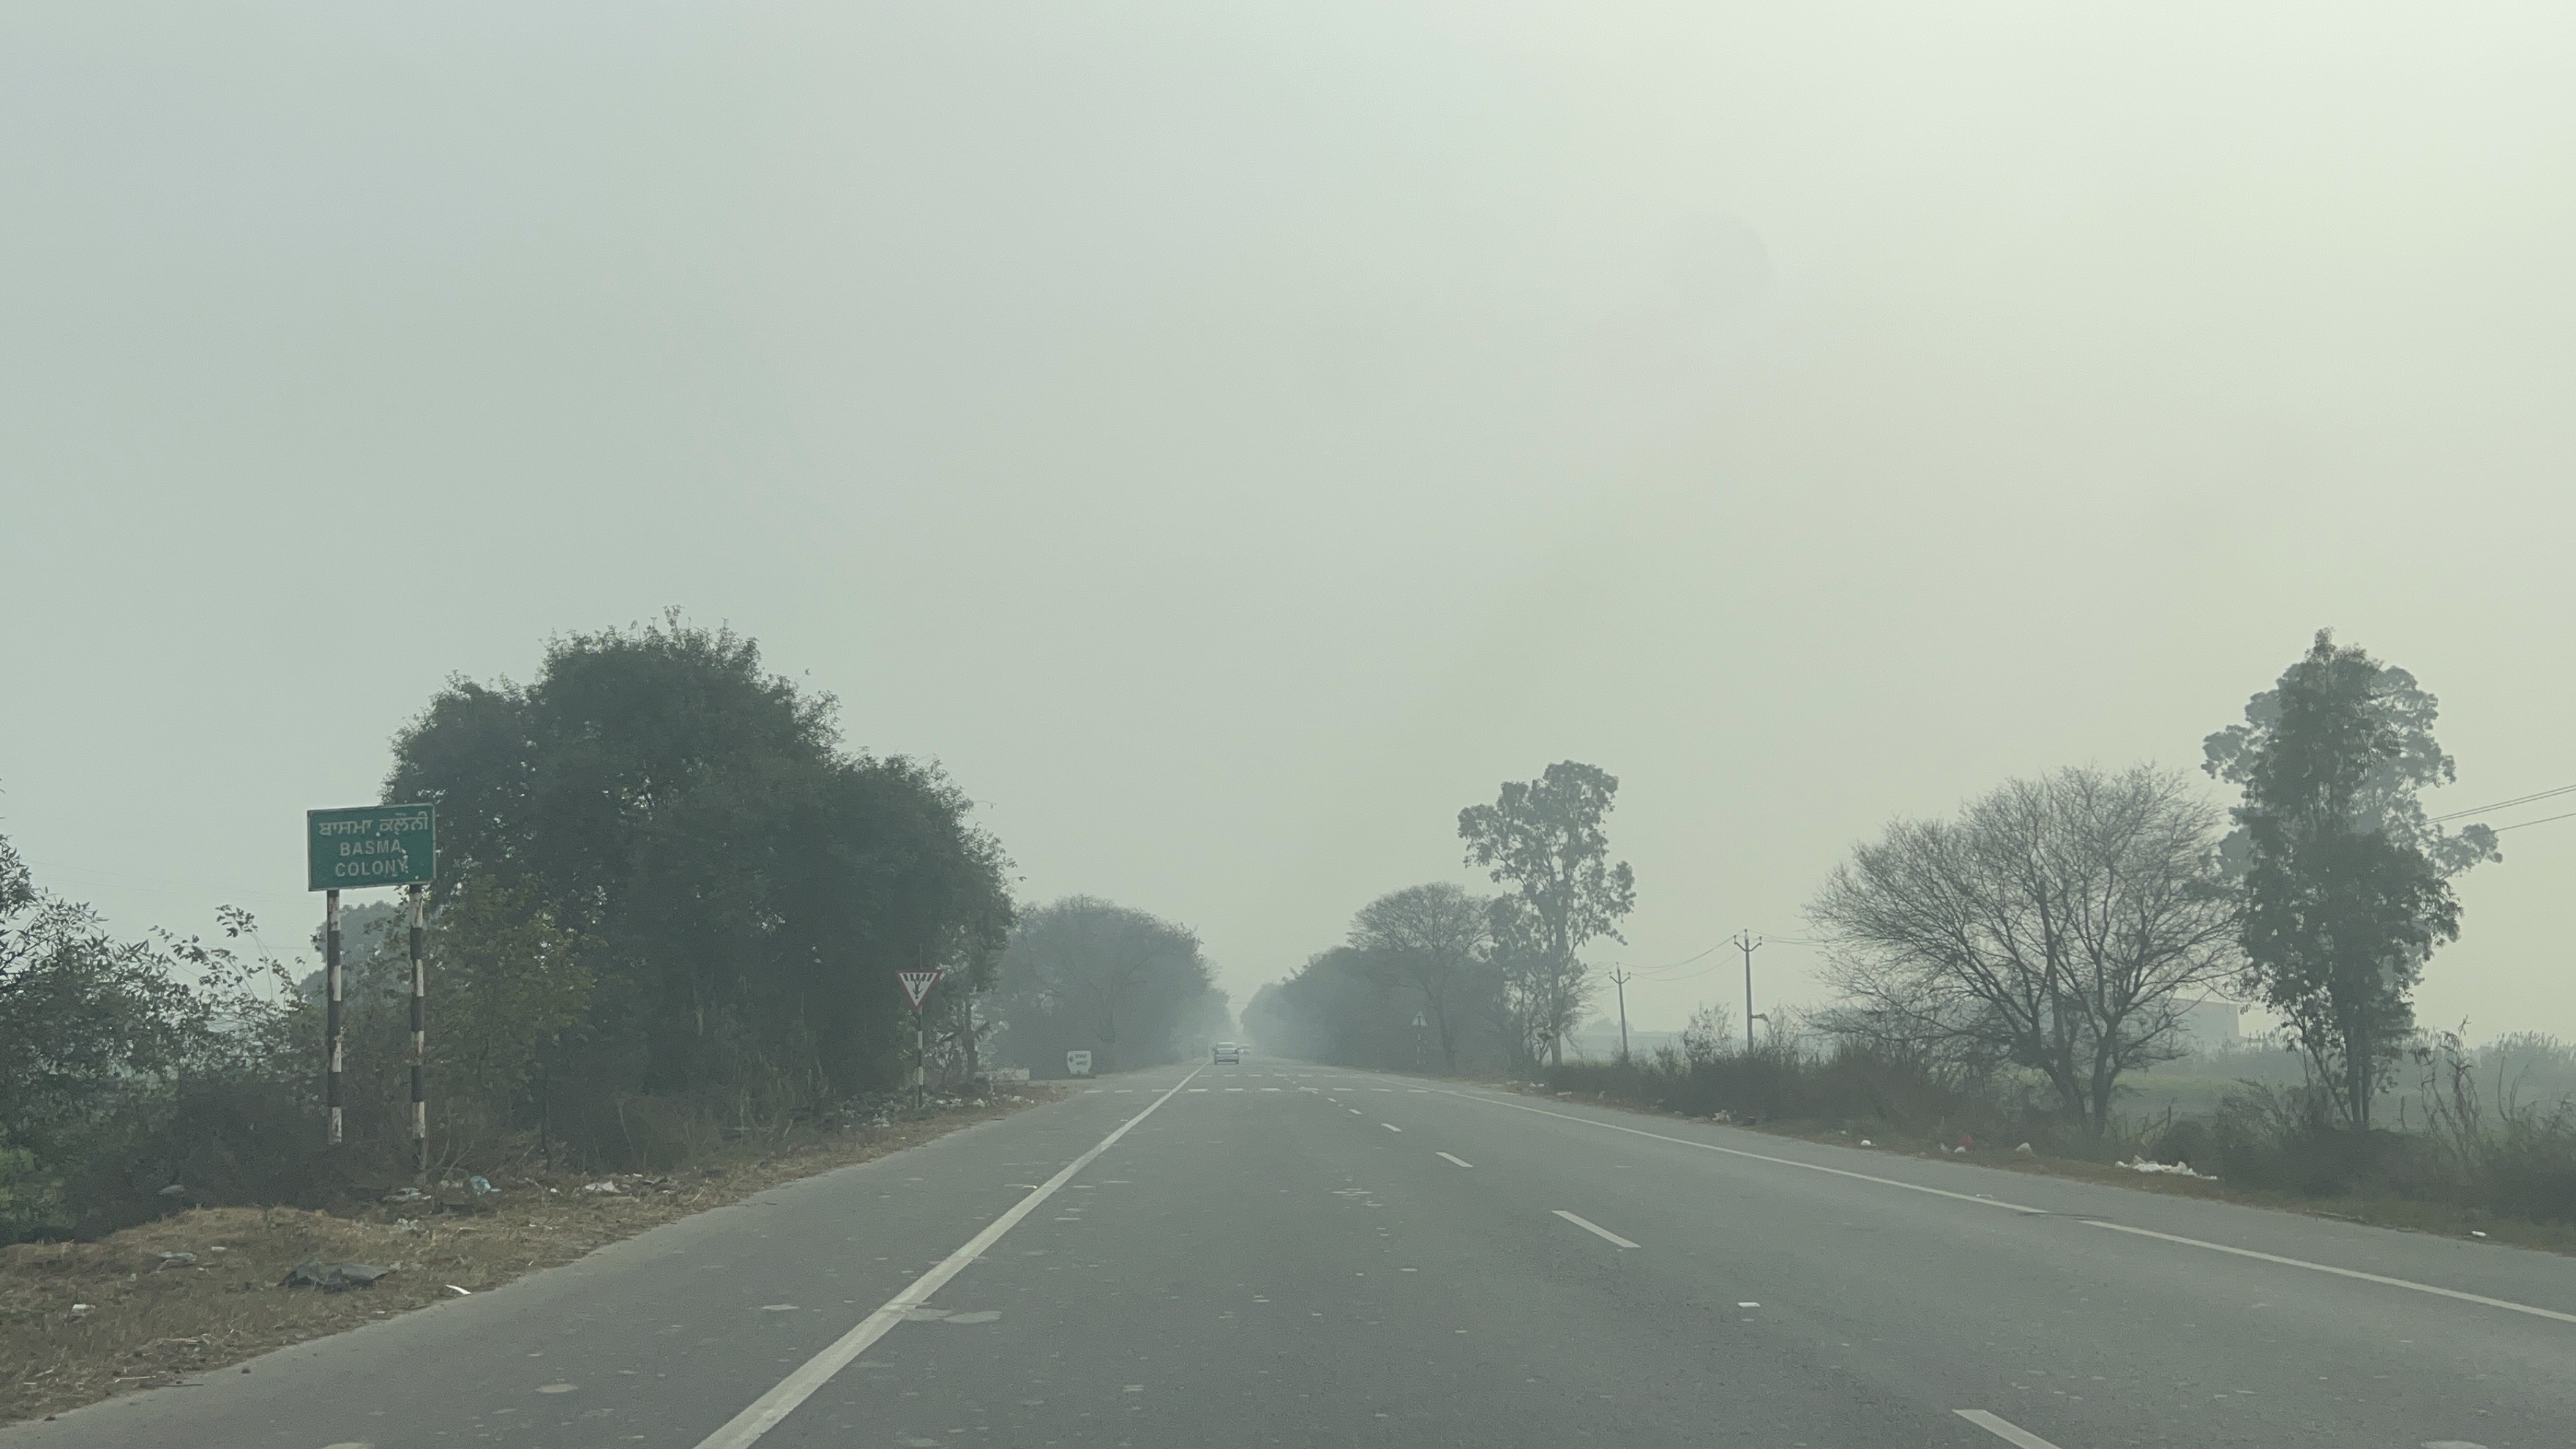Informatory: (304, 791, 441, 904)
Warning: (888, 959, 948, 1019)
